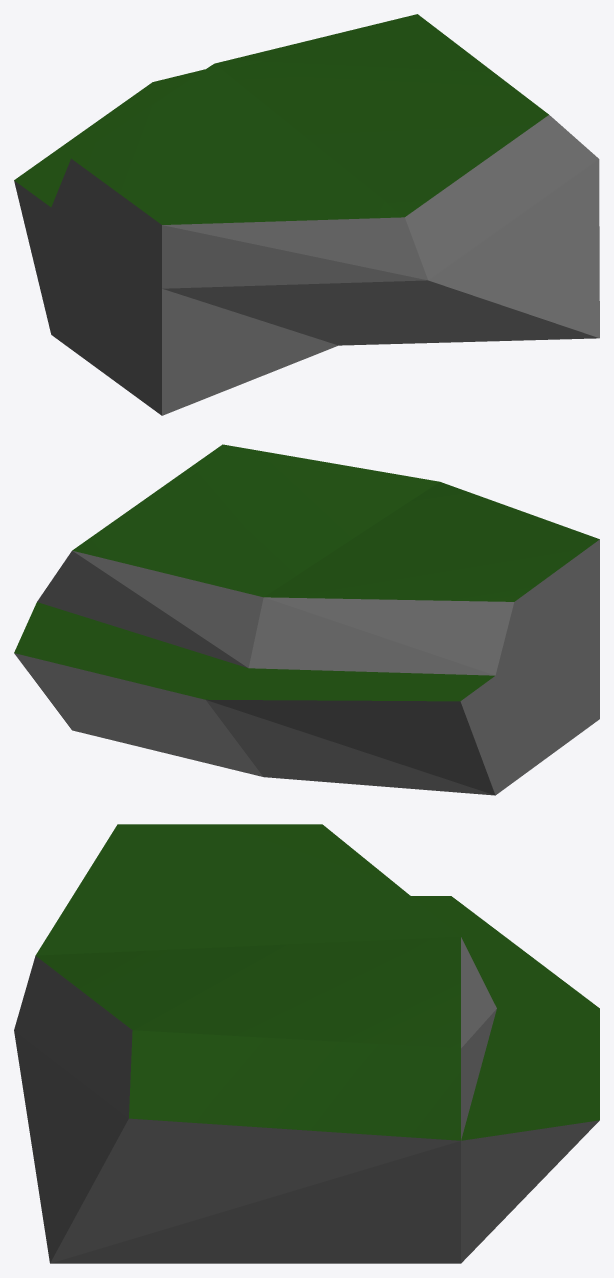
The model's file is Stone2_1.fbx.
3 renders of one model, top to bottom at view 1: azimuth 30°, elevation 25°; view 2: azimuth 150°, elevation 25°; view 3: azimuth 270°, elevation 25°, orthographic. The views are drawn at different scales.
Visible parts, largest first — view 1: Stone2_1; view 2: Stone2_1; view 3: Stone2_1.
Boxes of the visible parts, x1,y1,x2,y2 form: Stone2_1: (14,14,599,415); Stone2_1: (14,444,599,795); Stone2_1: (14,824,599,1263).
Bounding box in the file's own units: 41.7 × 17.93 × 42.18.
